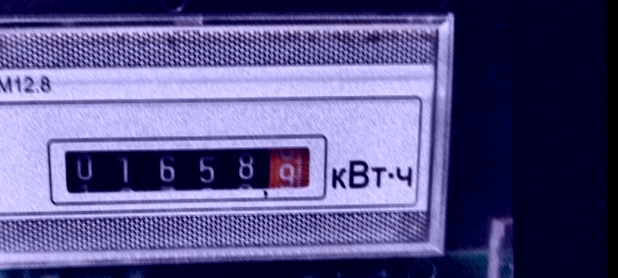0: (71, 149, 93, 181)
1: (115, 152, 129, 184)
5: (195, 152, 215, 184)
6: (155, 151, 176, 183)
8: (234, 149, 254, 181)
9: (275, 160, 293, 187)
screen: (38, 125, 330, 209)
